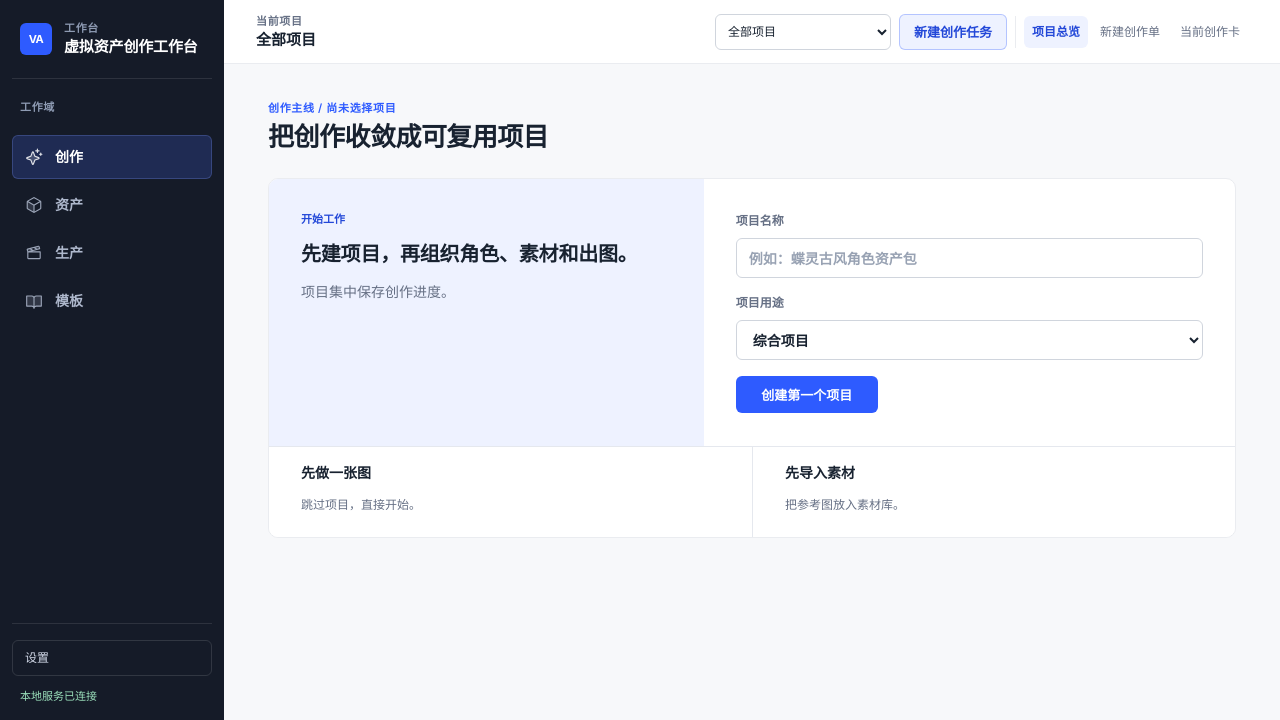
it: 切换项目后旧项目的角色列表请求不能覆盖新项目
The width and height of the screenshot is (1280, 720).
Select "甲项目" in the dropdown named "当前项目" at (803, 32), box x1=715 y1=14 x2=891 y2=50
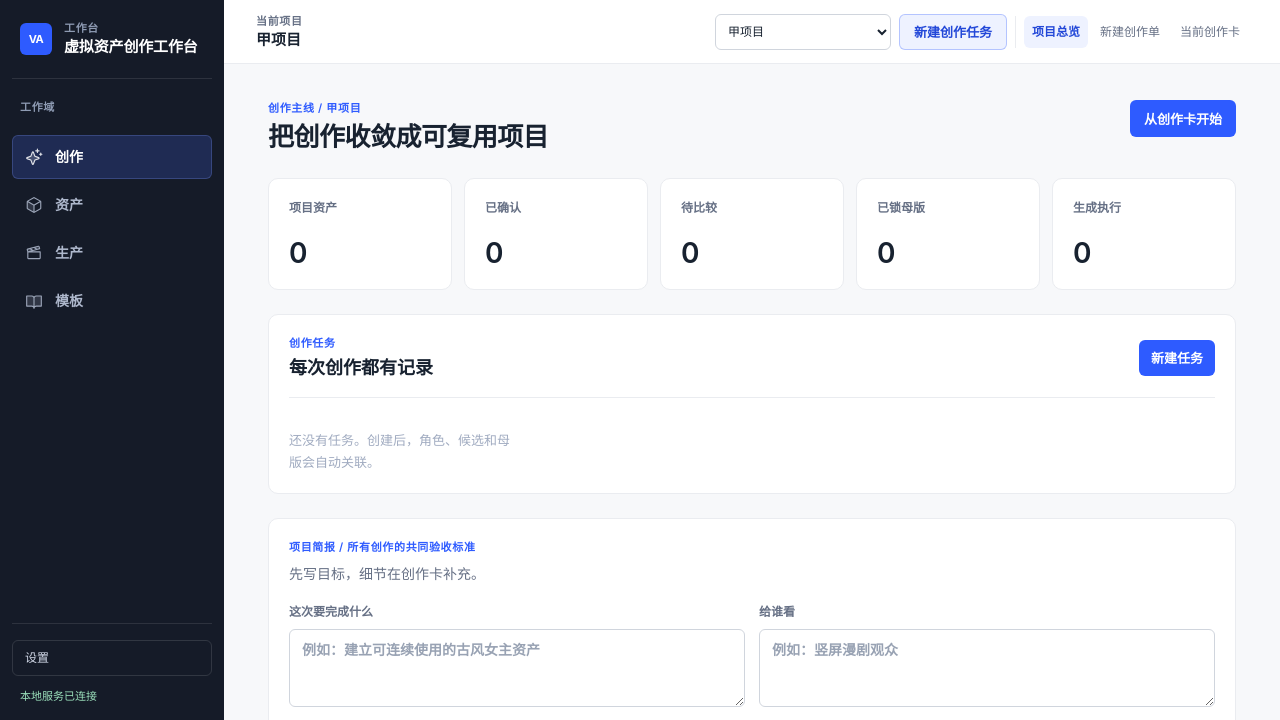
Select "乙项目" in the dropdown named "当前项目" at (803, 32), box x1=715 y1=14 x2=891 y2=50
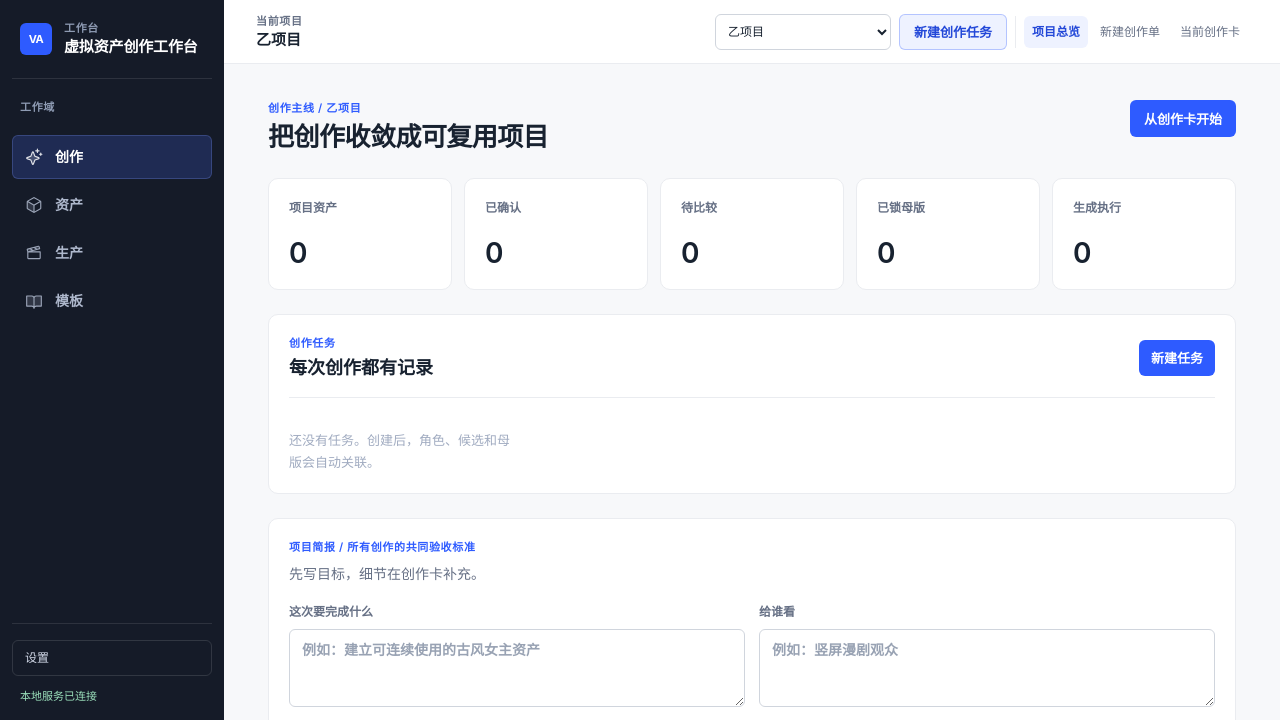
Click the button "资产" at (112, 205), box x1=12 y1=183 x2=212 y2=227
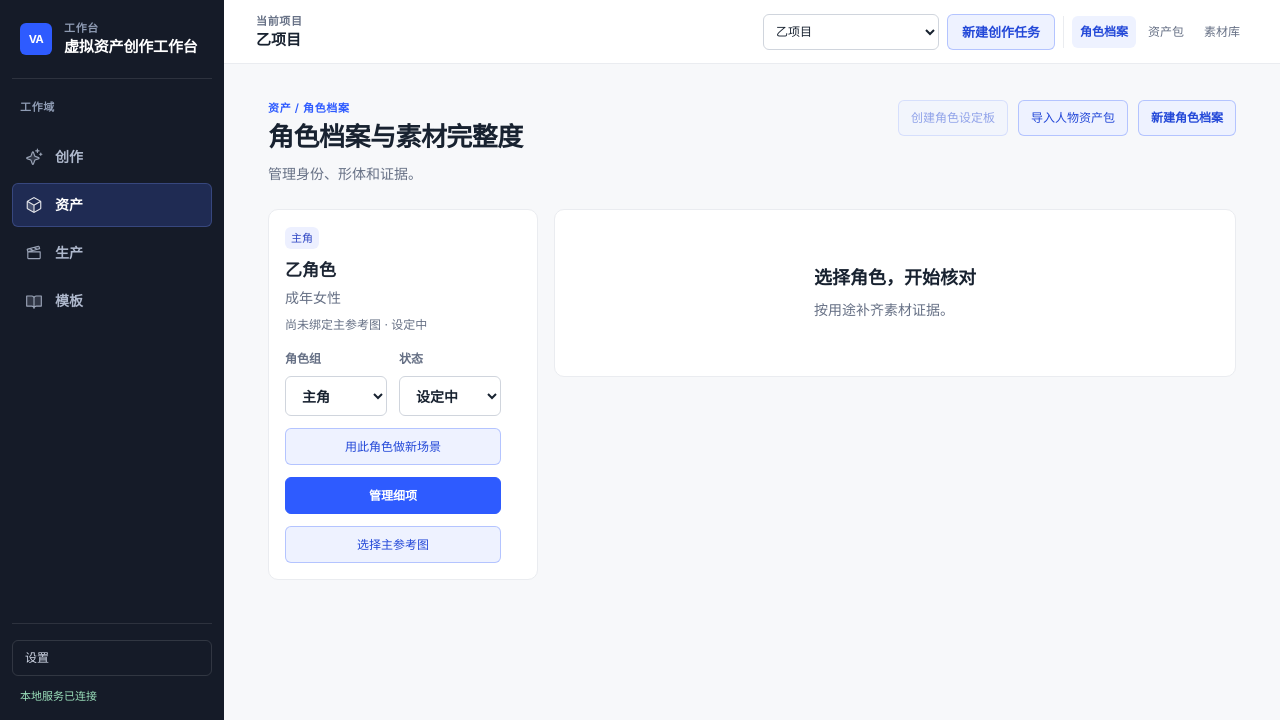
Now the heading "乙角色" is shown, box x1=285 y1=260 x2=336 y2=280
